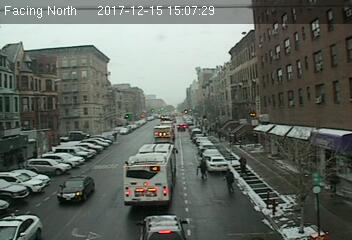bus: (123, 144, 178, 207)
car: (136, 214, 188, 240), (56, 174, 93, 203), (1, 213, 40, 240), (205, 156, 228, 172), (176, 123, 187, 131)
pedestrian: (222, 166, 236, 194), (238, 154, 248, 181)
truck: (153, 125, 172, 142)
